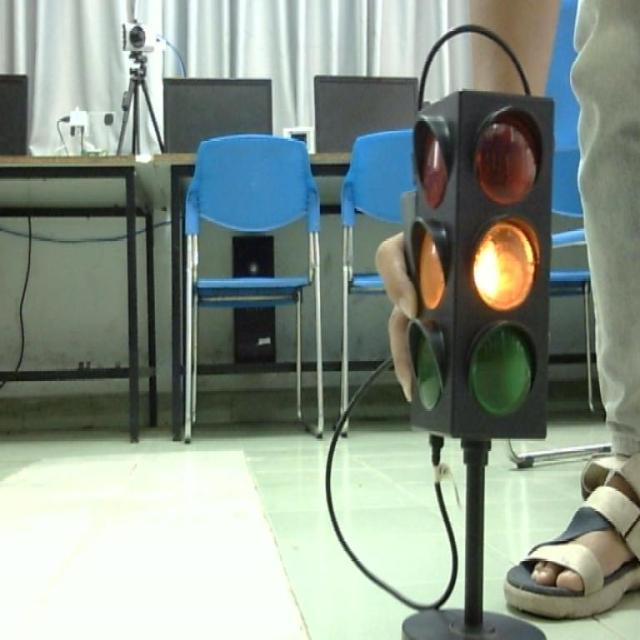yellow_light: (409, 89, 550, 436)
